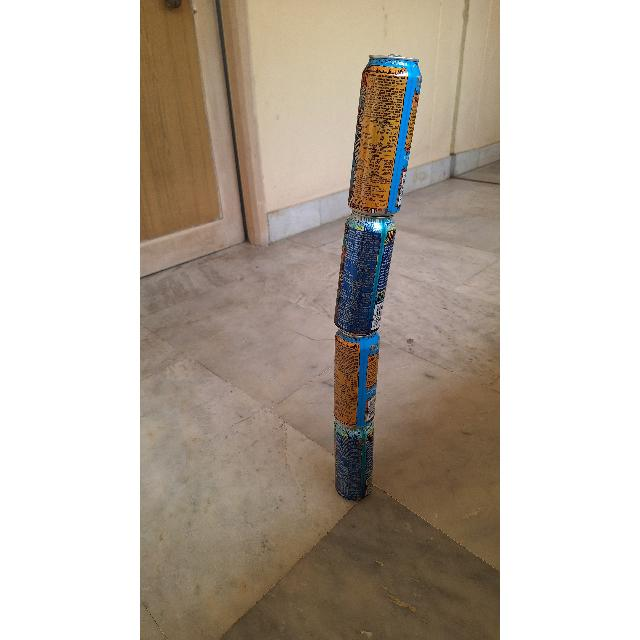Monster Aussie Lemonade: (336, 222, 392, 330), (334, 422, 374, 502)
Monster Mango Loco: (343, 58, 421, 214), (333, 328, 379, 422)
